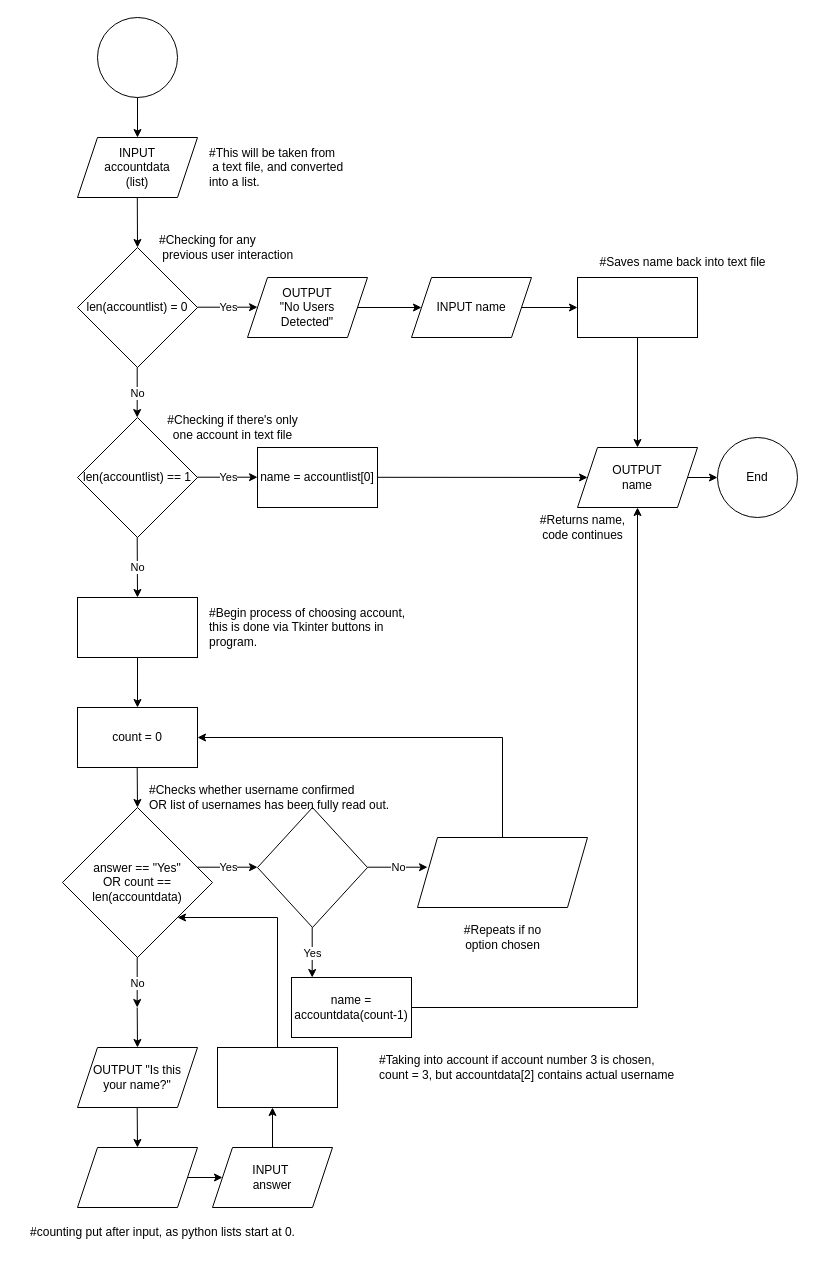
Some shapes in this 815 by 1265 pixel diagram are drawn without their labels. Each missing label, with the centre of its shape:
accountdata[0] = name: pixel 637 307
answer = "No": pixel 137 627
answer == "Yes": pixel 312 867
Begin: pixel 137 57
count = count + 1: pixel 277 1077
OUTPUT "You chose none of them, let's try again": pixel 502 872
OUTPUT accountdata(count): pixel 137 1177
